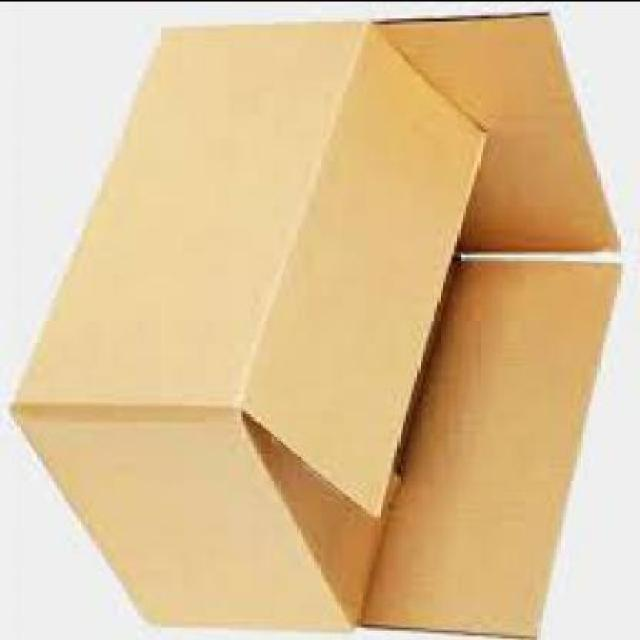CARDBOARD: (11, 9, 626, 637)
